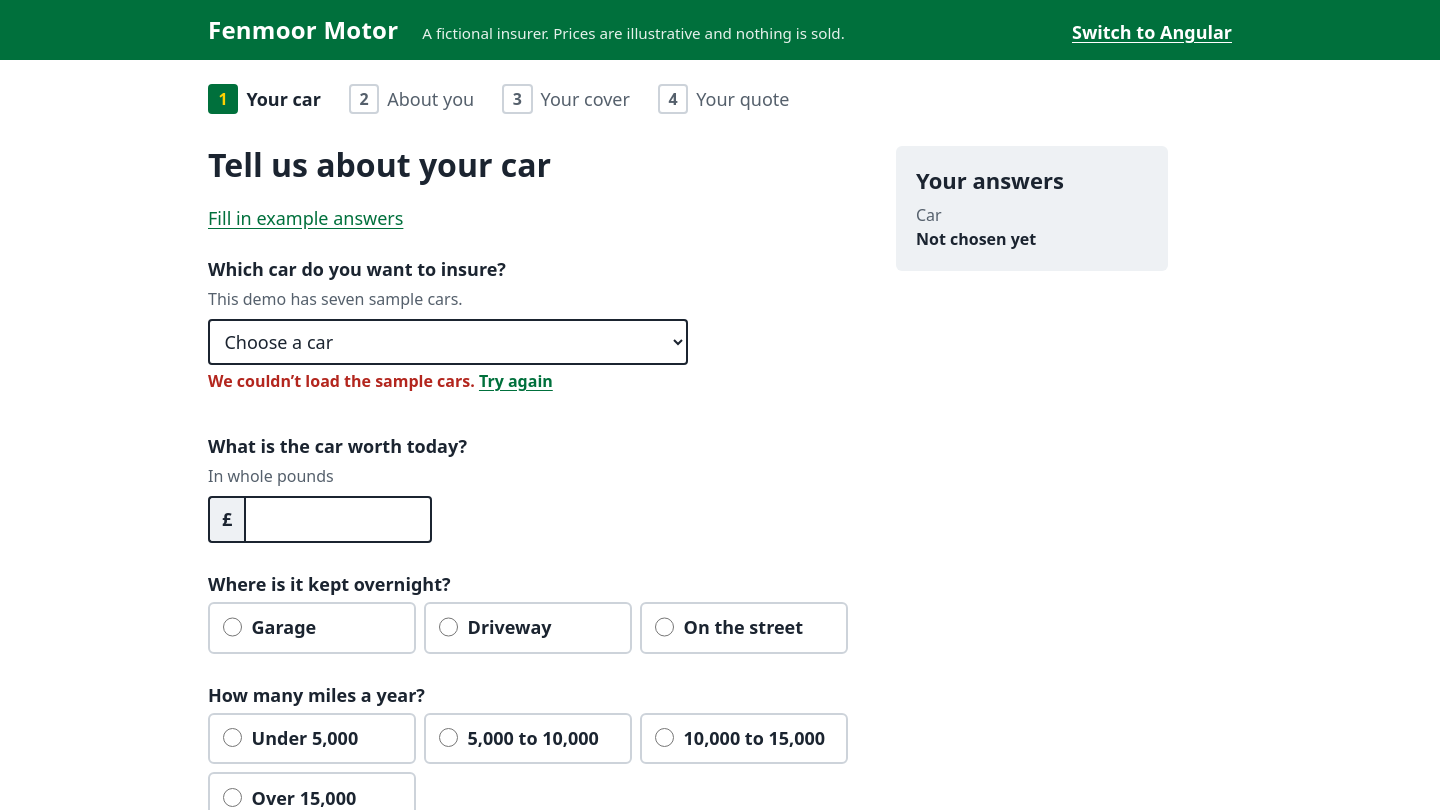
Scenario: the sample cars › can be fetched again if the first try failed
Expected: the text "We couldn’t load the sample cars. Try again" is shown, x1=208 y1=365 x2=553 y2=397
Click the button "Try again" at (516, 381), box x1=479 y1=365 x2=553 y2=397
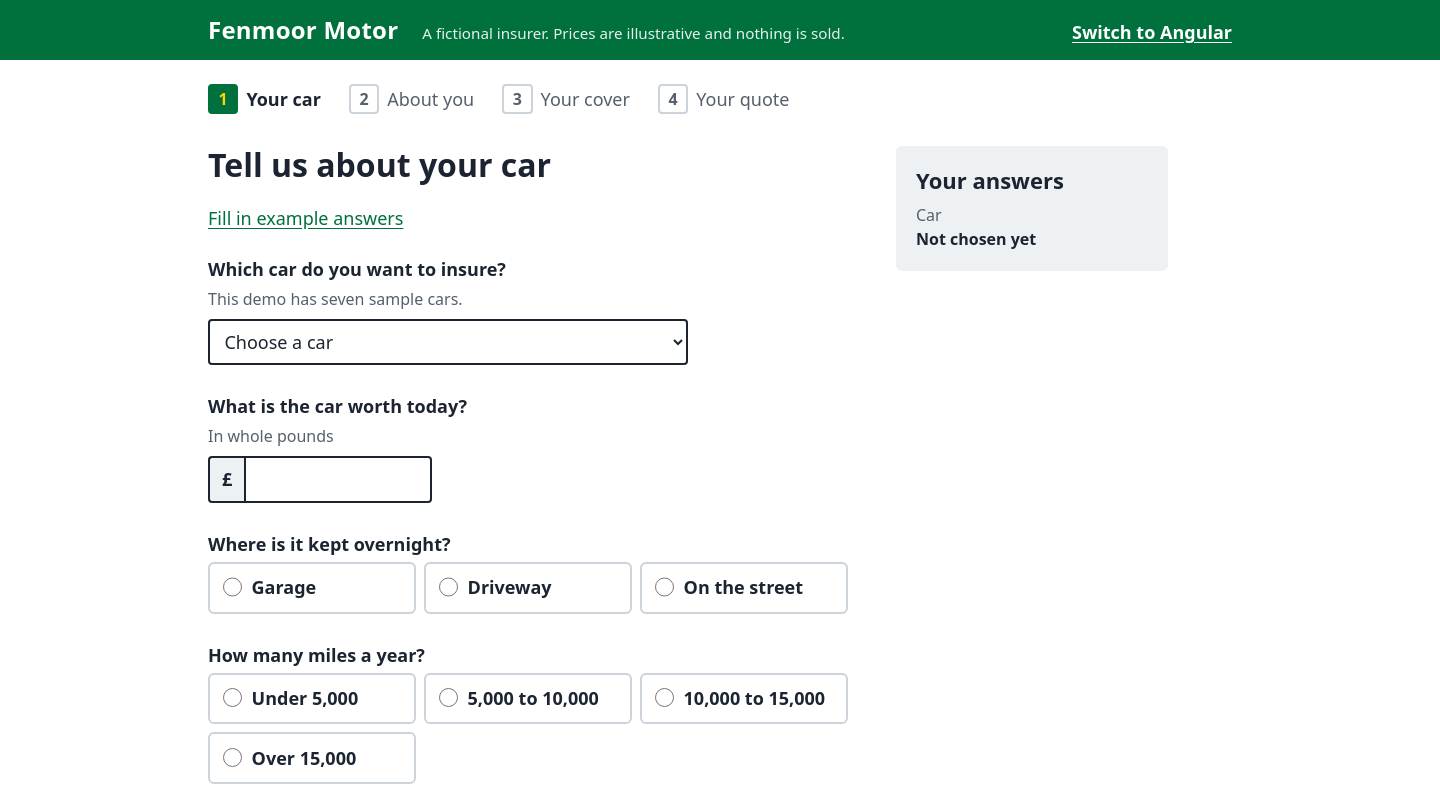
Expected: the text "We couldn’t load the sample cars" is gone
